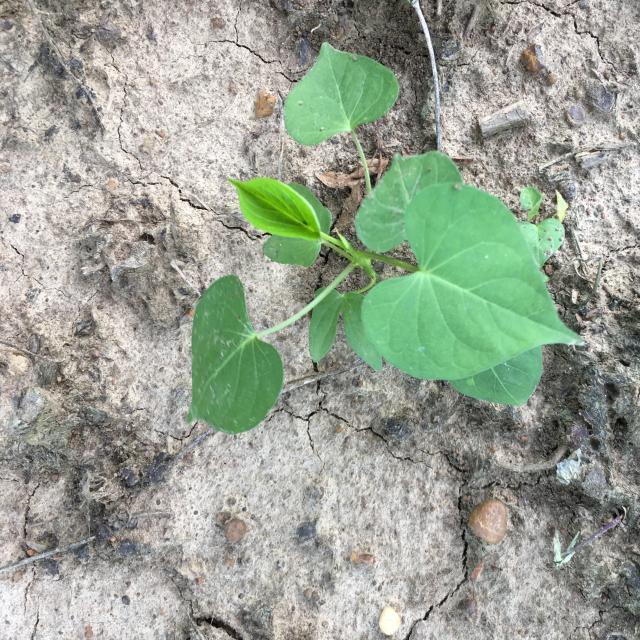MorningGlory: (185, 43, 585, 435)
